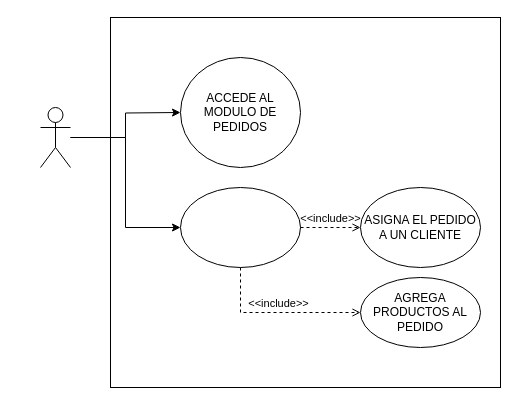
Image size: 518x405. Some labels were removed from this diagram. The shapes that lost their labels are listed below. From the top down, each one's centre as x and y in pixels, then its label:
point (55, 137): ENCARGADO
point (240, 227): CREA NUEVO PEDIDO
